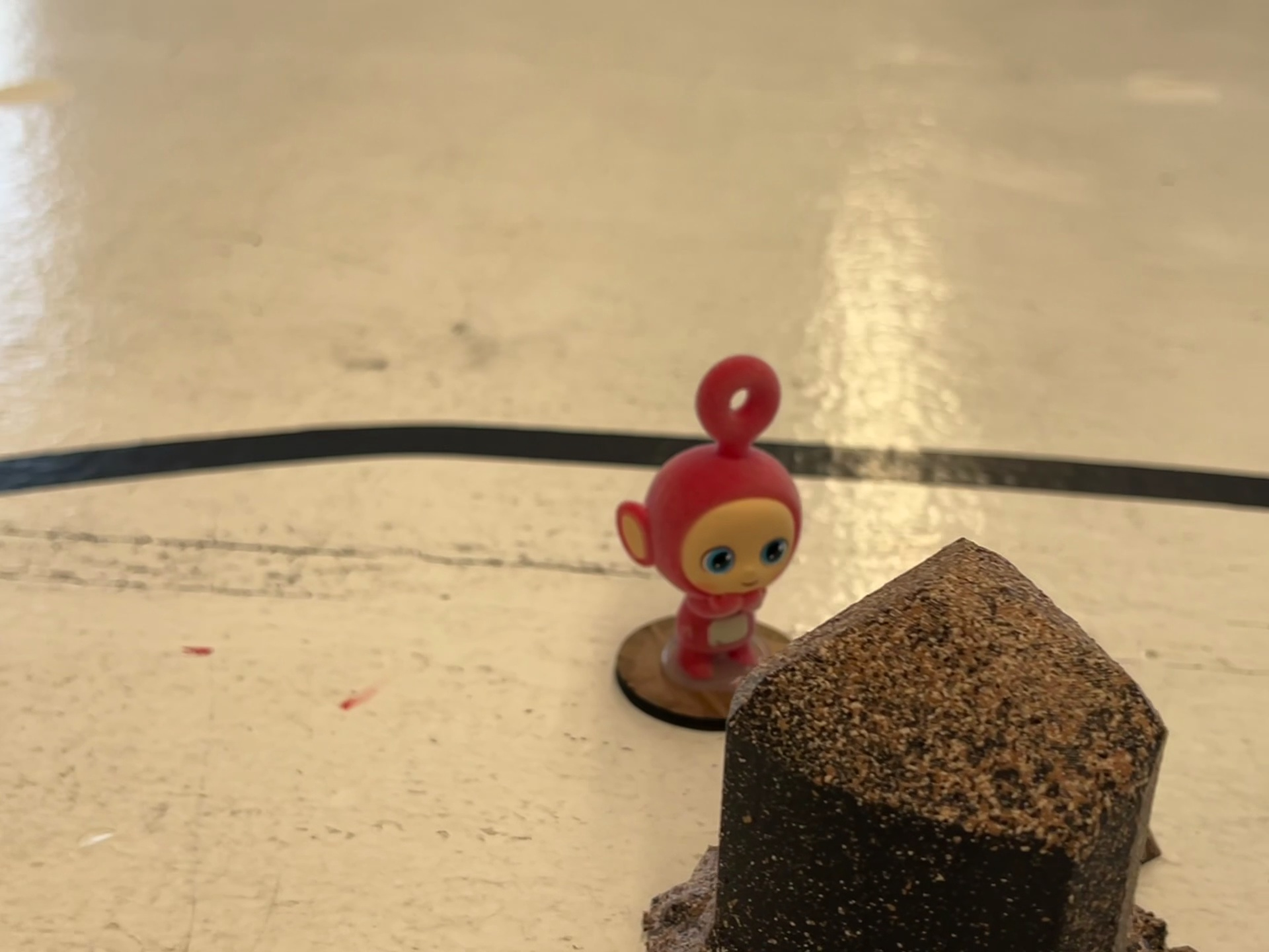teletubby: (617, 356, 801, 686)
